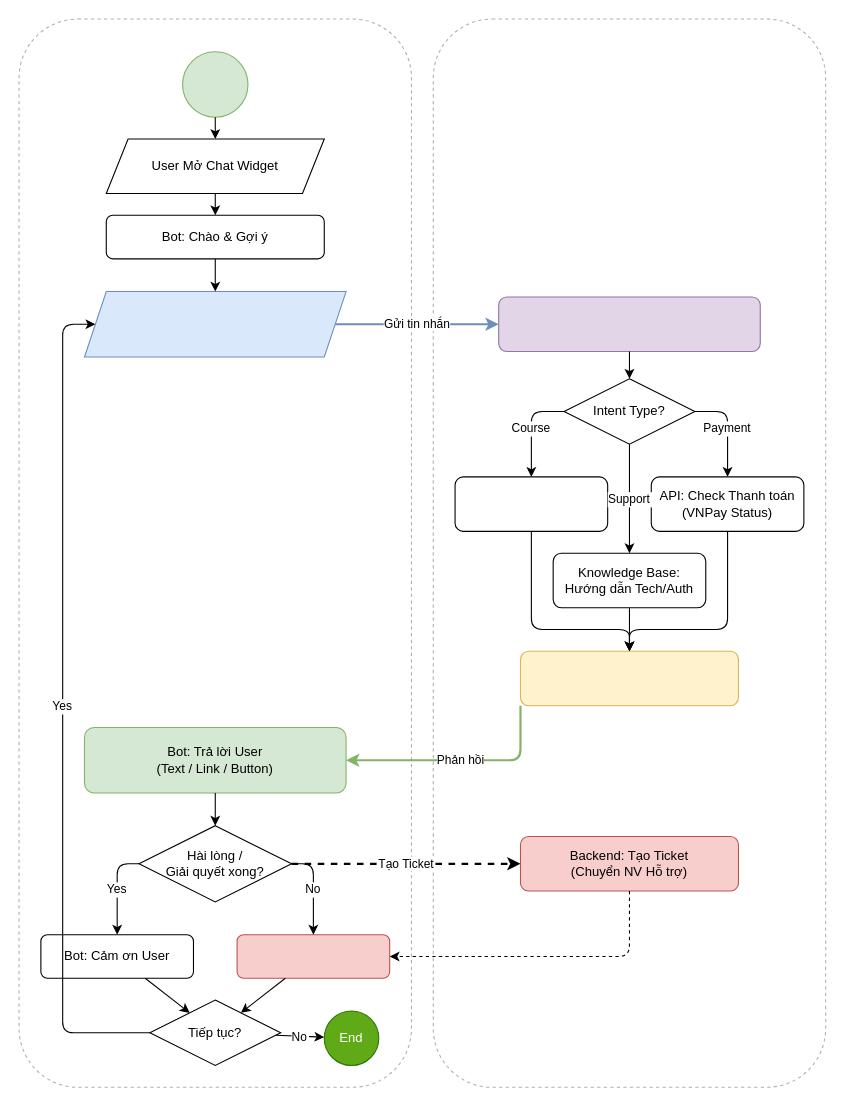
Some shapes in this 845 by 1106 pixel diagram are drawn without their labels. The shapes that lost their labels are listed below. From the top down, each one's centre as x and y in pixels, then its label:
[214,84]: Start
[214,323]: User: Nhập câu hỏi (Khóa học, Lỗi, Account...)
[629,324]: AI: Detect Intent & Context (User Role, Page, History)
[531,503]: API: Tra cứu Khóa học (Gợi ý, Lộ trình)
[628,678]: AI: Xây dựng câu trả lời (Dựa trên Data & Context)
[313,956]: Bot: Đã tạo Ticket hỗ trợ kỹ thuật
